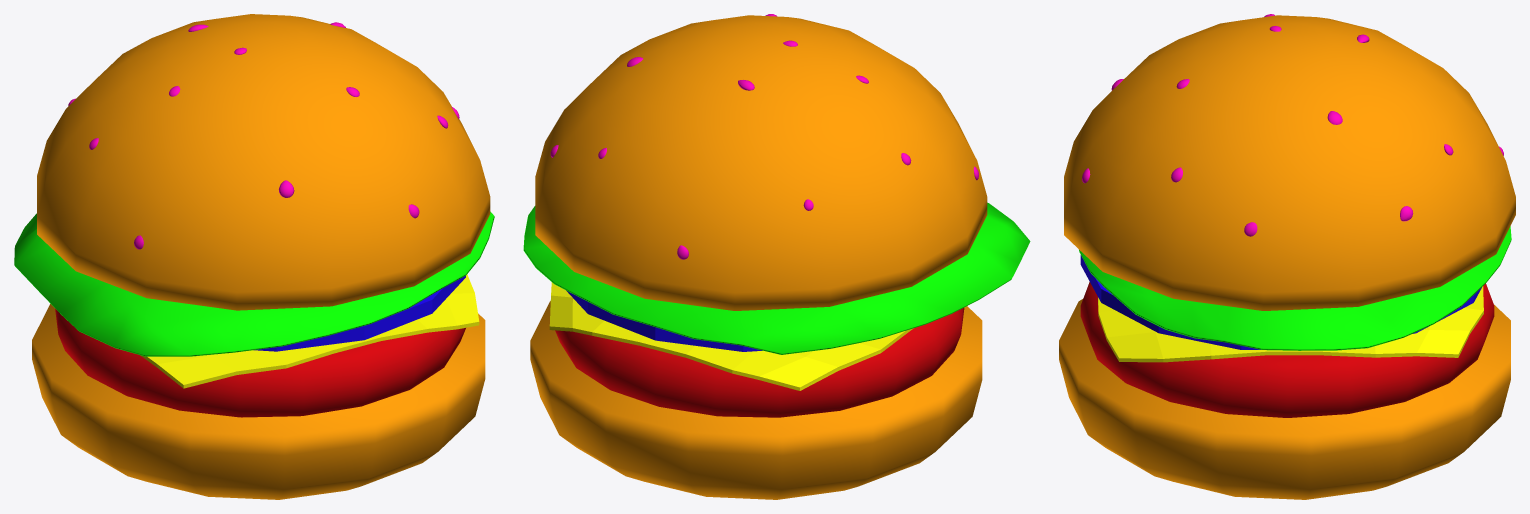
Rendered from burger.fbx.
3 renders of one model, left to right at view 1: azimuth 30°, elevation 25°; view 2: azimuth 150°, elevation 25°; view 3: azimuth 270°, elevation 25°, orthographic.
Visible parts, largest first — view 1: burger-top, burger-bottom, lettue, viande, fromage, tomate, sesames; view 2: burger-top, burger-bottom, lettue, viande, fromage, tomate, sesames; view 3: burger-top, burger-bottom, viande, lettue, fromage, tomate, sesames.
Boxes of the visible parts, left/top/right/bottom form: burger-top: left=37, top=14, right=490, bottom=310; burger-bottom: left=32, top=304, right=485, bottom=499; lettue: left=14, top=211, right=494, bottom=356; viande: left=55, top=308, right=465, bottom=417; fromage: left=140, top=274, right=479, bottom=388; tomate: left=254, top=276, right=465, bottom=351; sesames: left=68, top=22, right=459, bottom=249; burger-top: left=535, top=15, right=987, bottom=310; burger-bottom: left=530, top=301, right=982, bottom=499; lettue: left=523, top=202, right=1030, bottom=354; viande: left=555, top=308, right=964, bottom=417; fromage: left=549, top=282, right=913, bottom=390; tomate: left=566, top=290, right=762, bottom=351; sesames: left=550, top=14, right=978, bottom=259; burger-top: left=1064, top=15, right=1515, bottom=310; burger-bottom: left=1059, top=299, right=1510, bottom=499; viande: left=1080, top=282, right=1494, bottom=417; lettue: left=1079, top=226, right=1511, bottom=350; fromage: left=1098, top=286, right=1483, bottom=362; tomate: left=1080, top=255, right=1481, bottom=349; sesames: left=1082, top=14, right=1503, bottom=236.
Size of the model in its own units: 433 by 387 by 398.
